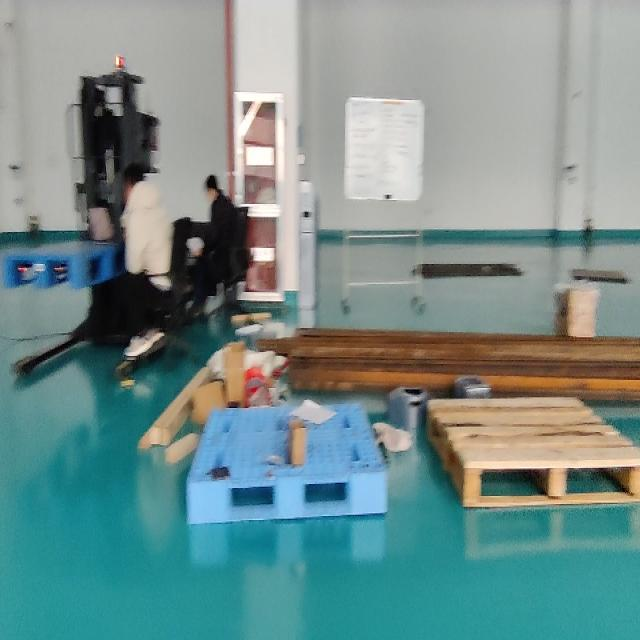euro: (428, 397, 639, 507)
